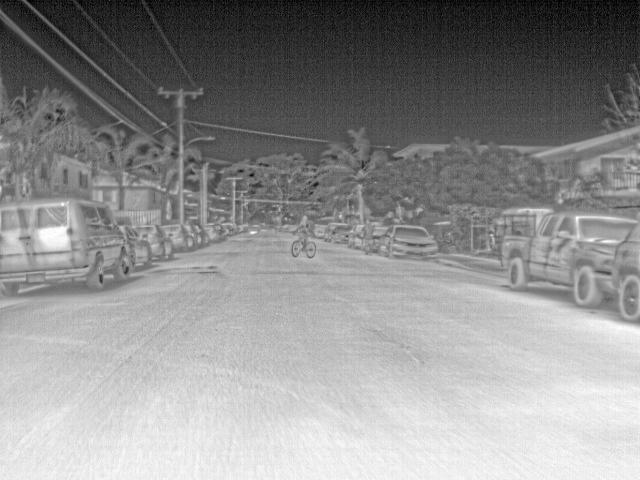car: (1, 198, 135, 297), (502, 211, 638, 307), (610, 216, 640, 322), (488, 206, 555, 253), (378, 224, 439, 262), (131, 223, 175, 261), (117, 223, 154, 267), (159, 222, 196, 250), (331, 223, 354, 244), (205, 221, 224, 242), (194, 222, 208, 250), (347, 223, 360, 249), (314, 222, 331, 240), (222, 221, 239, 238), (374, 224, 388, 239), (248, 222, 262, 234), (234, 222, 247, 234)
person: (361, 219, 375, 256), (296, 213, 312, 240)
